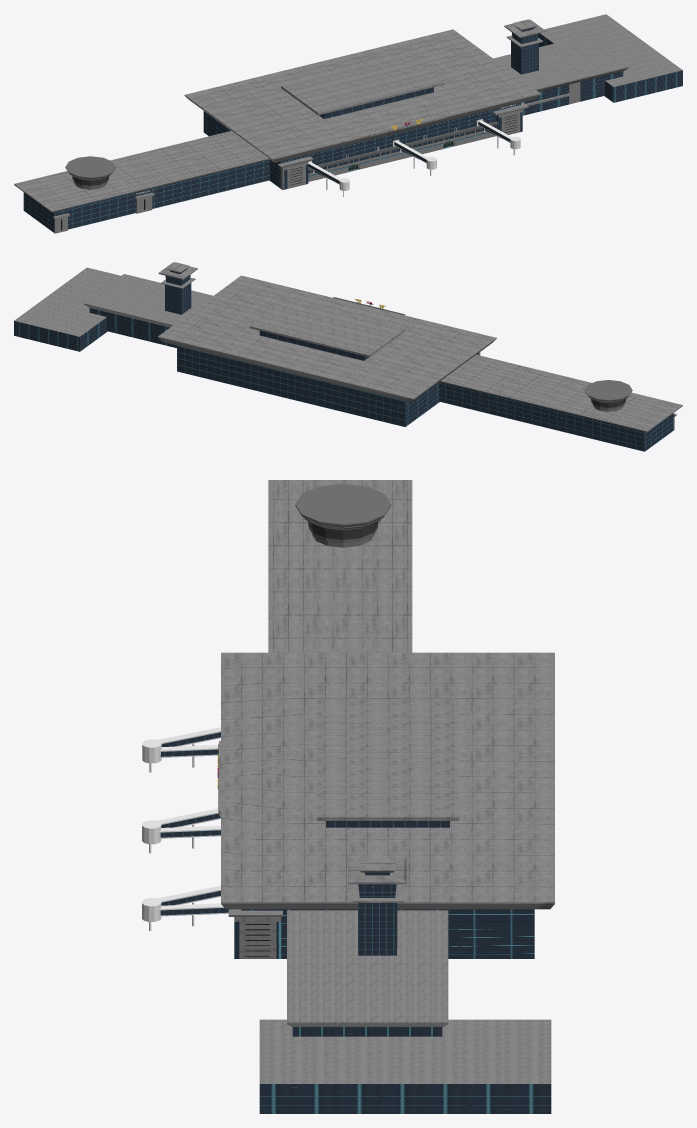
Rendered from terminal.gltf.
3 views of the same model, one above another, from view 1: azimuth 30°, elevation 25°; view 2: azimuth 150°, elevation 25°; view 3: azimuth 270°, elevation 25° (orthographic). The views are drawn at different scales.
Visible parts, largest first — view 1: main_terminal_roof, west_terminal, main_terminal, east_terminal, east_terminal2, tower; view 2: main_terminal_roof, west_terminal, main_terminal, east_terminal2, east_terminal, tower; view 3: main_terminal_roof, east_terminal2, west_terminal, east_terminal, main_terminal, tower.
Part boxes in pixels (x1=…): main_terminal_roof: x1=184, y1=29, x2=540, y2=162; west_terminal: x1=14, y1=131, x2=269, y2=233; main_terminal: x1=203, y1=102, x2=528, y2=189; east_terminal: x1=493, y1=35, x2=629, y2=115; east_terminal2: x1=538, y1=14, x2=682, y2=102; tower: x1=504, y1=19, x2=545, y2=74; main_terminal_roof: x1=157, y1=275, x2=496, y2=402; west_terminal: x1=439, y1=354, x2=682, y2=451; main_terminal: x1=177, y1=345, x2=483, y2=426; east_terminal2: x1=14, y1=267, x2=120, y2=351; east_terminal: x1=83, y1=274, x2=212, y2=347; tower: x1=158, y1=262, x2=197, y2=314; main_terminal_roof: x1=218, y1=652, x2=554, y2=909; east_terminal2: x1=259, y1=1019, x2=551, y2=1113; west_terminal: x1=268, y1=480, x2=412, y2=652; east_terminal: x1=287, y1=910, x2=448, y2=1036; main_terminal: x1=228, y1=909, x2=534, y2=958; tower: x1=348, y1=856, x2=406, y2=955.
Bounding box in the file's own units: 358 × 37.89 × 107.
